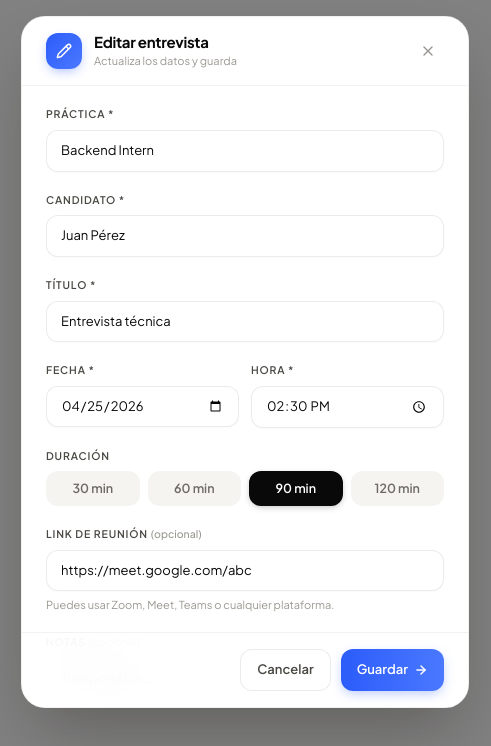
Test: InterviewFormModal › render base — modo editar › muestra warning cuando candidate cambia y sentToChat=true
This screenshot has width=491, height=746.
Select "María" in the dropdown labelled "Candidato *" at [245, 236], box [46,215,444,257]
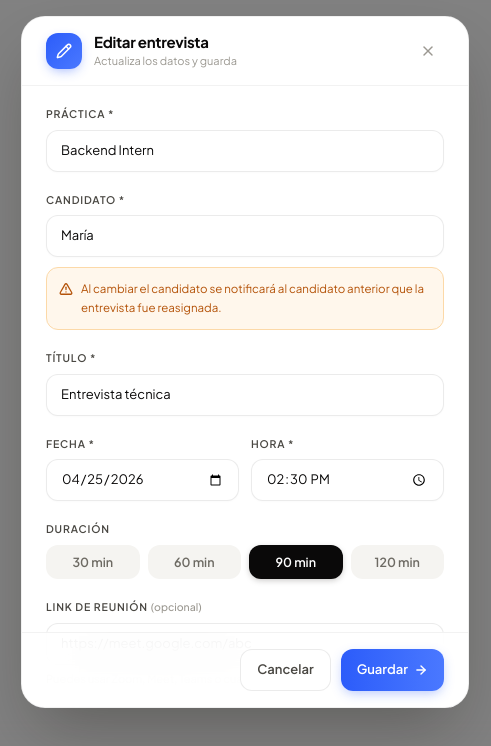
Check: the text "Al cambiar el candidato se notificará al candidato anterior" is shown, box [81,281,424,315]
